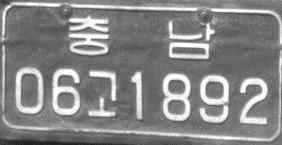0: (14, 66, 45, 115)
1: (123, 70, 152, 121)
2: (239, 77, 268, 125)
6: (51, 67, 81, 115)
8: (161, 72, 191, 121)
9: (199, 74, 230, 124)
고: (87, 69, 117, 117)
충남_D: (67, 15, 215, 59)
